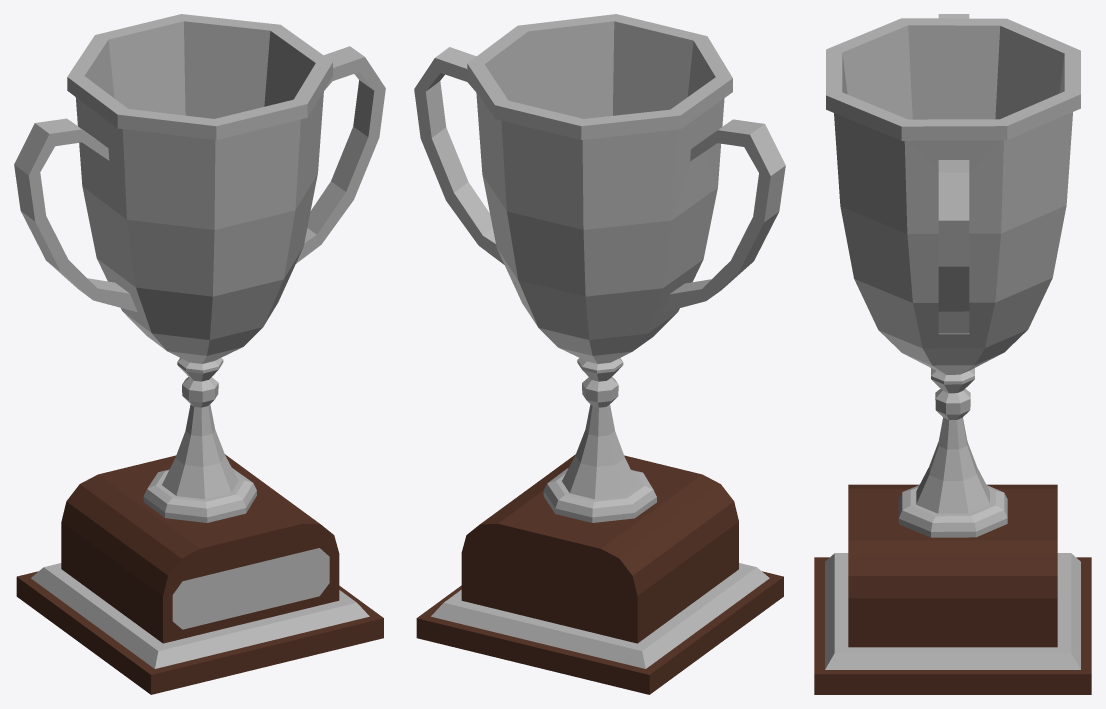
Rendered from Int_Trophy01_3.fbx.
3 renders of one model, left to right at view 1: azimuth 30°, elevation 25°; view 2: azimuth 150°, elevation 25°; view 3: azimuth 270°, elevation 25°, orthographic. The views are drawn at different scales.
Visible parts, largest first — view 1: Int_Trophy01_3; view 2: Int_Trophy01_3; view 3: Int_Trophy01_3.
Boxes of the visible parts, x1,y1,x2,y2 form: Int_Trophy01_3: (14, 14, 385, 694); Int_Trophy01_3: (414, 14, 785, 694); Int_Trophy01_3: (814, 14, 1091, 694).
Size of what is drawn, in the model's own units: 34.15 by 22.27 by 50.
